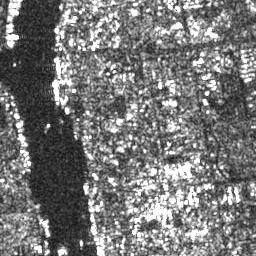ship: (49, 78, 62, 105), (51, 55, 64, 79), (41, 219, 52, 238), (4, 32, 20, 41), (8, 1, 22, 10), (8, 8, 20, 16), (5, 27, 16, 34), (6, 23, 14, 29)
